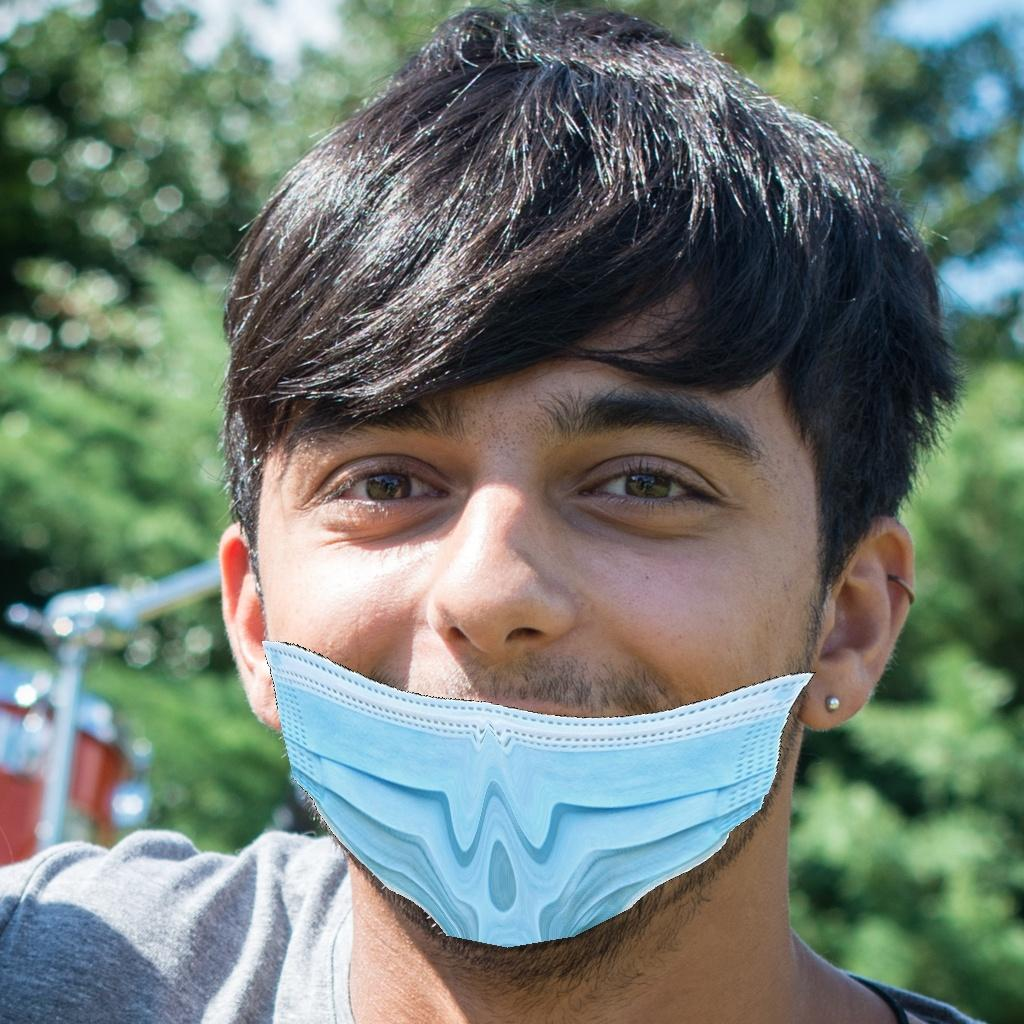Máscara Incorreta: (248, 333, 835, 917)
